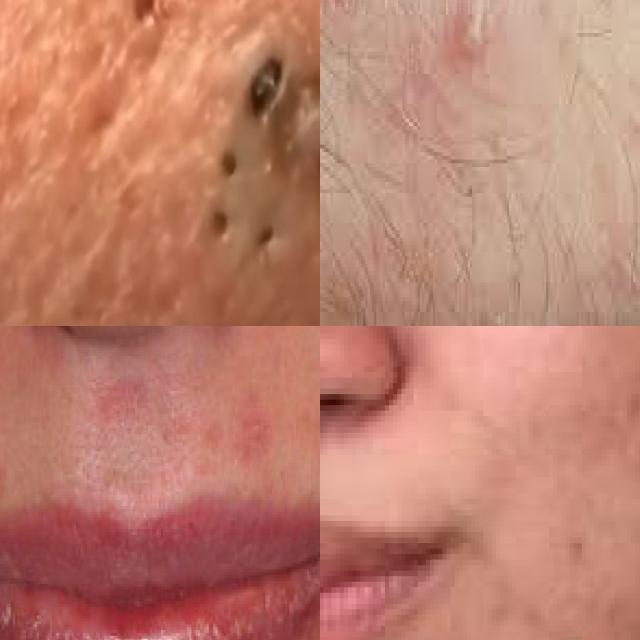comedone: (238, 40, 296, 136), (210, 135, 246, 197), (122, 0, 166, 47), (204, 198, 238, 241)
pustule: (448, 0, 504, 82)
